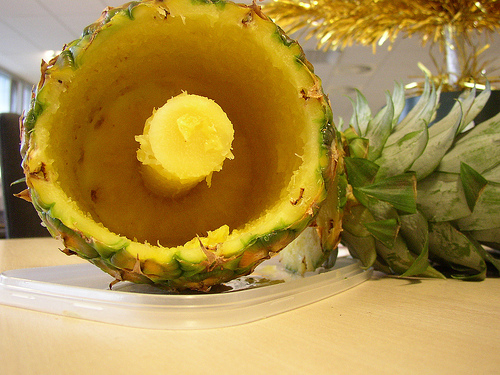pineapple: (10, 2, 345, 291)
